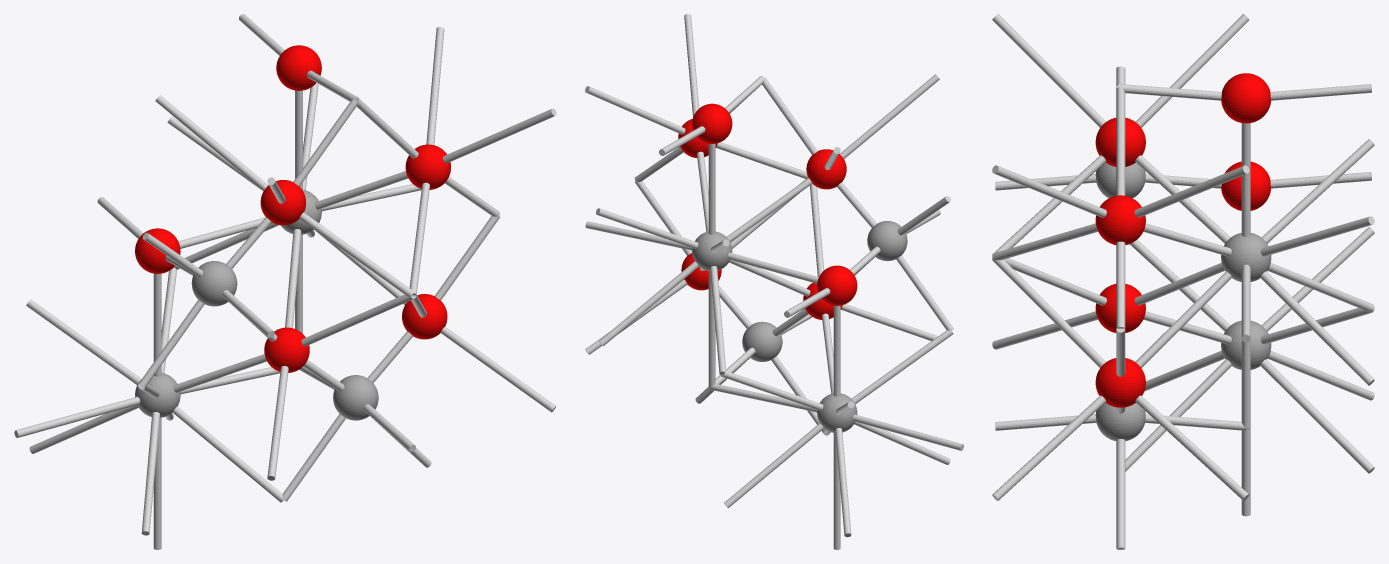
The model's file is structure_mpstyle.glb.
3 views of the same model, side by side, from view 1: azimuth 30°, elevation 25°; view 2: azimuth 150°, elevation 25°; view 3: azimuth 270°, elevation 25° (orthographic). The views are drawn at different scales.
Visible parts, largest first — view 1: world; view 2: world; view 3: world.
Part boxes in pixels (bbox=[...]): world: bbox=[14, 14, 556, 549]; world: bbox=[585, 14, 963, 549]; world: bbox=[992, 14, 1374, 549].
Size of the model in its own units: 8.65 by 9.03 by 6.08.
